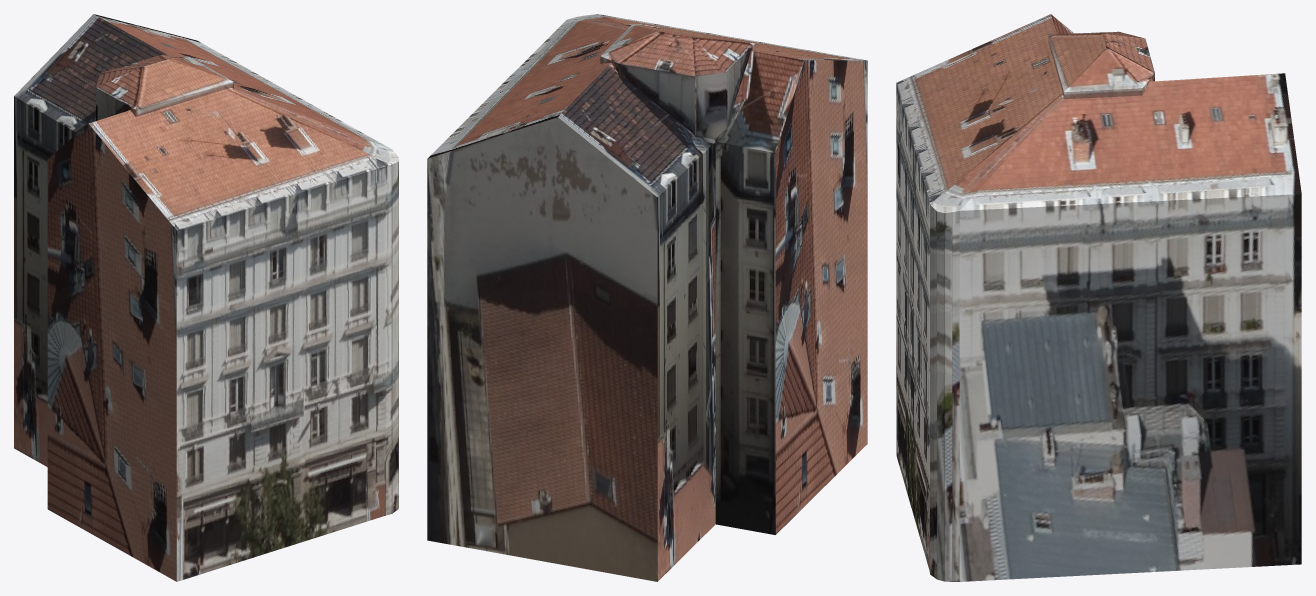
3 views of the same model, side by side, from view 1: azimuth 30°, elevation 25°; view 2: azimuth 150°, elevation 25°; view 3: azimuth 270°, elevation 25° (orthographic). The views are drawn at different scales.
Parts seen in each view (by area): view 1: Z_UP; view 2: Z_UP; view 3: Z_UP.
Part boxes in pixels (bbox=[...]): Z_UP: bbox=[14, 14, 398, 581]; Z_UP: bbox=[427, 14, 867, 581]; Z_UP: bbox=[896, 14, 1301, 581].
Bounding box in the file's own units: 18.31 × 27.96 × 22.63.
Materials: 2 (1 with a texture image).
